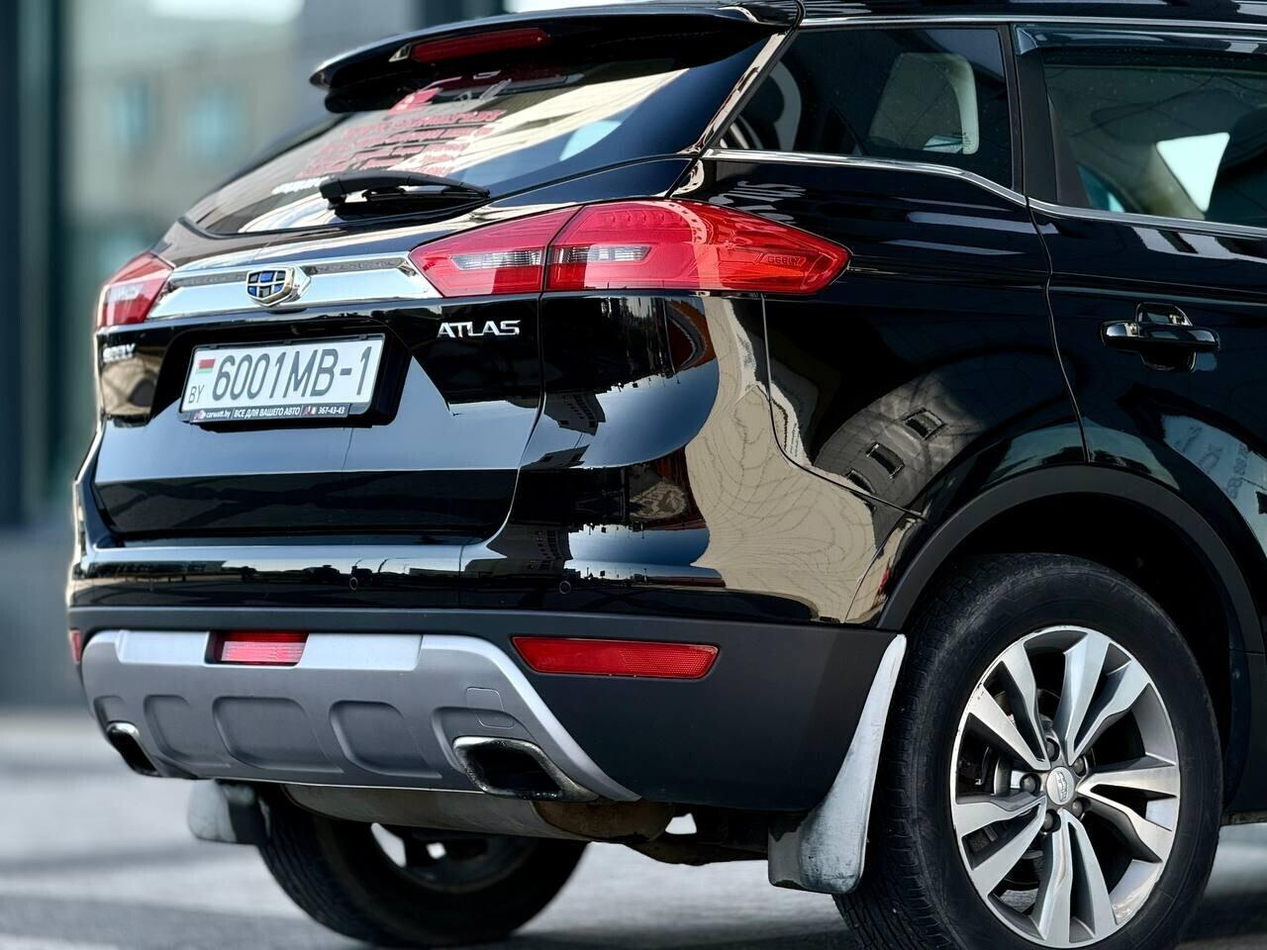Atlas_2016-2023: (50, 0, 1267, 950)
